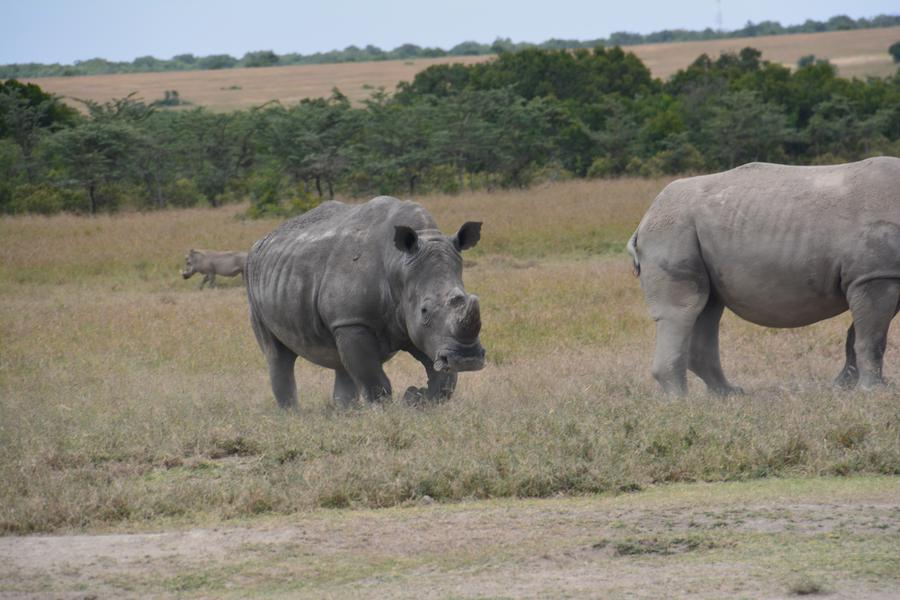rhino: (631, 146, 889, 379), (263, 185, 488, 417)
